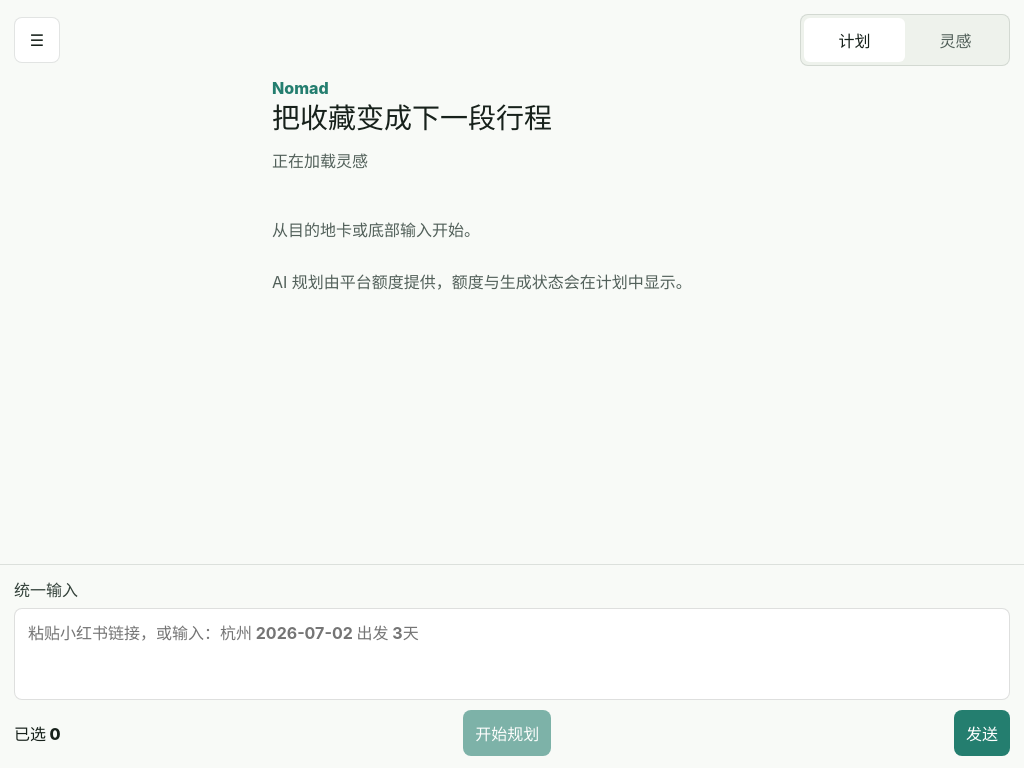
Scenario: HomeScreen › filters the Library list through city aggregation chips
This screenshot has width=1024, height=768.
Click the button "灵感" at (956, 40), box left=905, top=18, right=1006, bottom=62
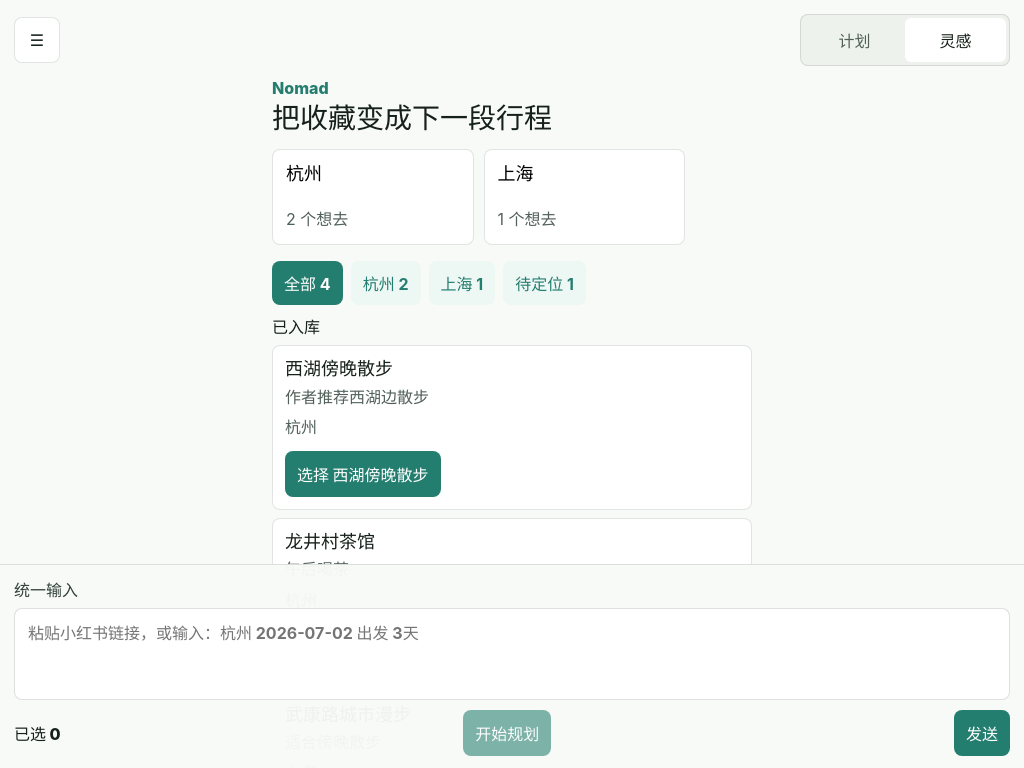
Click the button "杭州 2" at (386, 283), box left=351, top=261, right=420, bottom=305
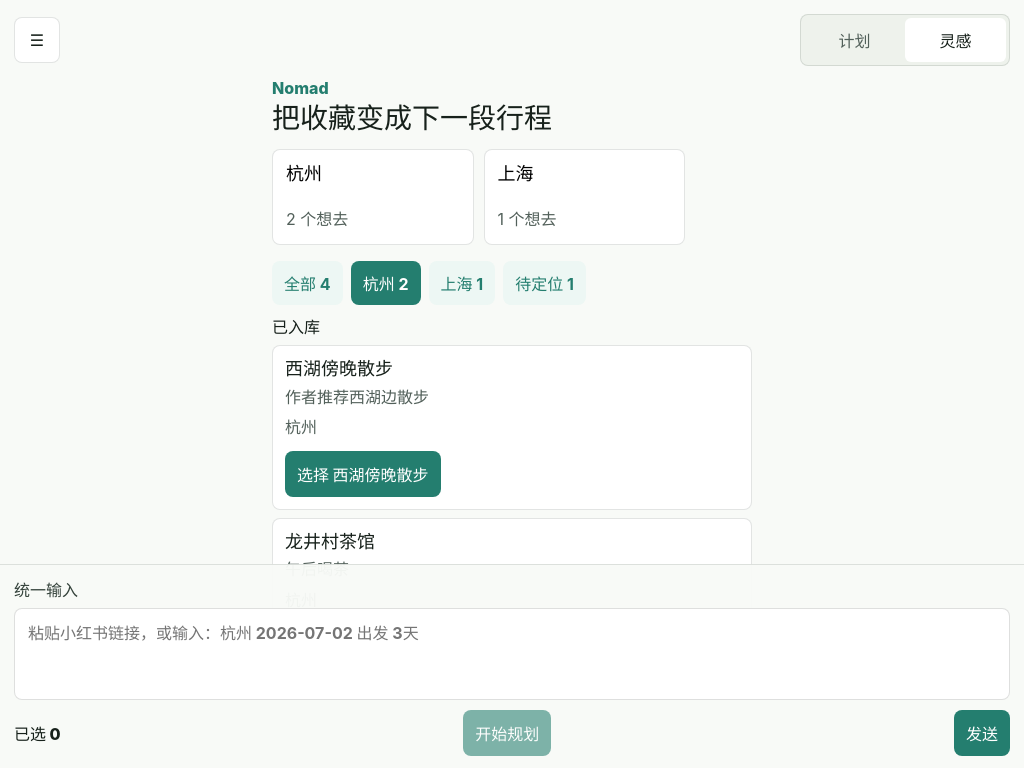
Expected: the heading "武康路城市漫步" is not shown
Now the heading "西湖傍晚散步" is shown, box left=285, top=358, right=393, bottom=379
Now the heading "龙井村茶馆" is shown, box left=285, top=531, right=375, bottom=552
Click the button "待定位 1" at (545, 283), box left=503, top=261, right=586, bottom=305
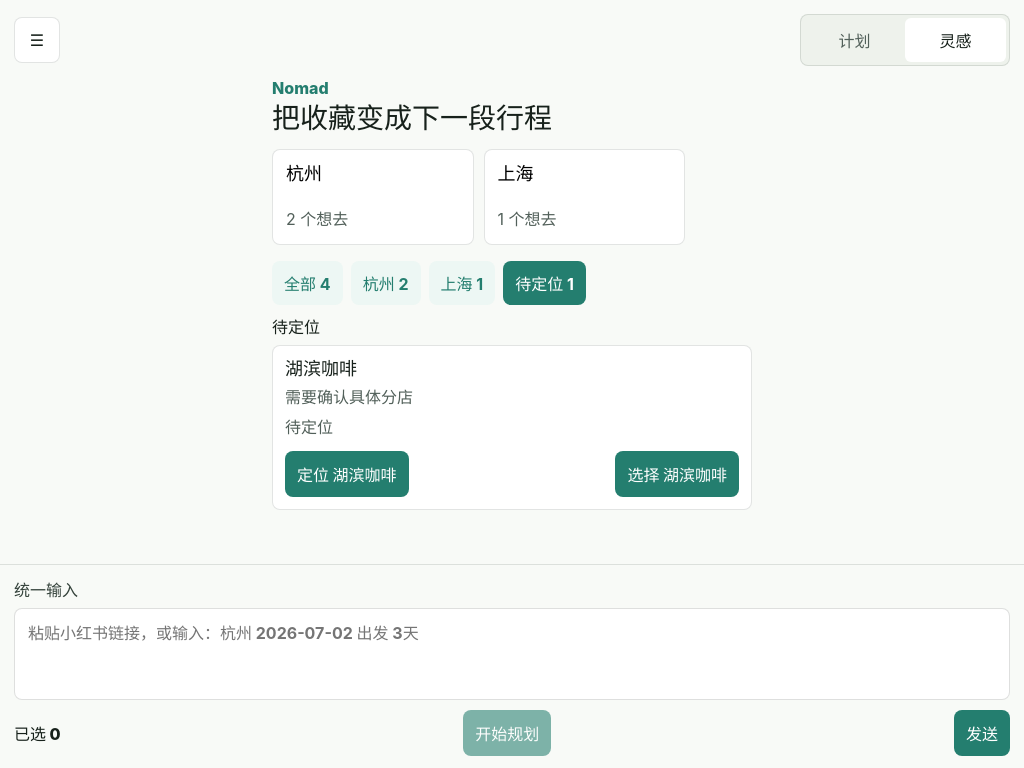
Now the heading "湖滨咖啡" is shown, box left=285, top=358, right=357, bottom=379
Now the heading "西湖傍晚散步" is gone
